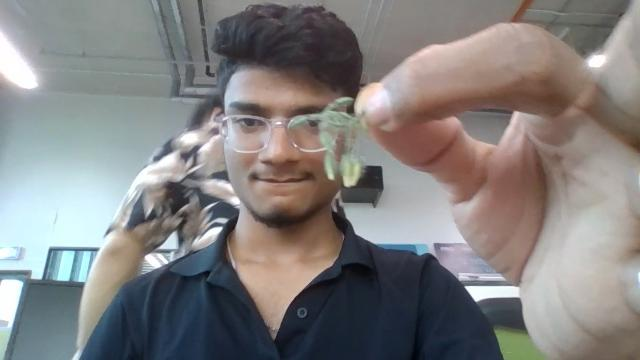Flower Bud: (341, 154, 362, 188), (324, 97, 356, 115), (323, 147, 336, 182), (288, 117, 312, 130)
